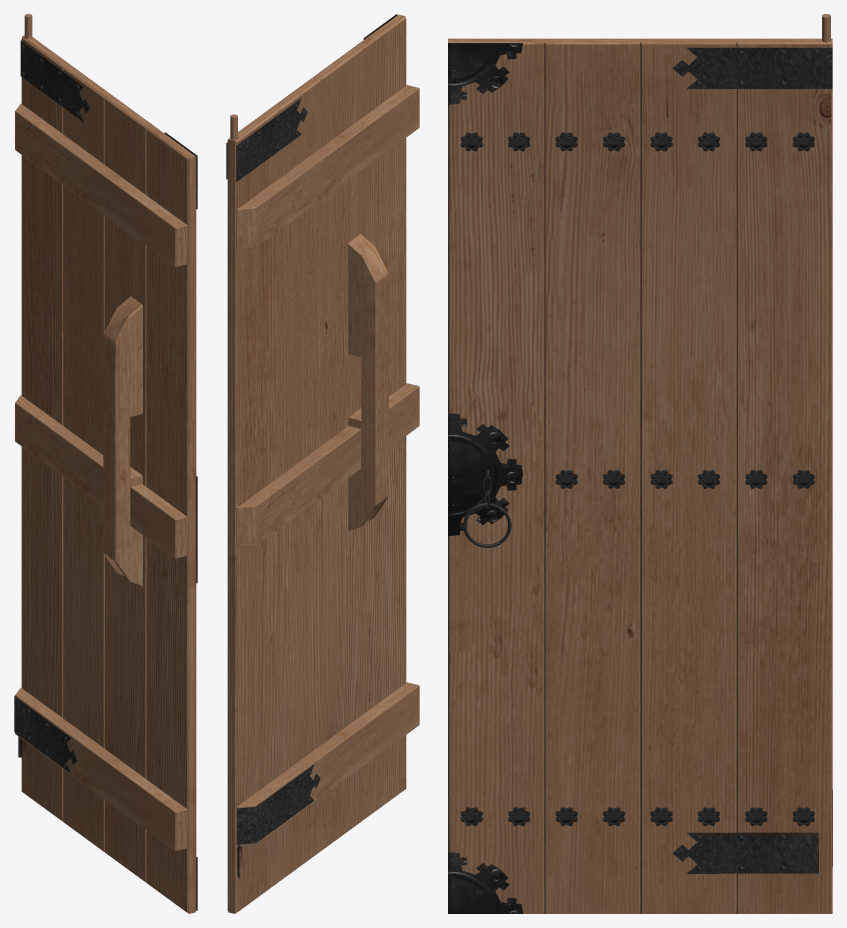
Rendered from SM_Gyedong_Door_07C.fbx.
3 views of the same model, side by side, from view 1: azimuth 30°, elevation 25°; view 2: azimuth 150°, elevation 25°; view 3: azimuth 270°, elevation 25° (orthographic). The views are drawn at different scales.
Parts seen in each view (by area): view 1: SM_Gyedong_Door_07C; view 2: SM_Gyedong_Door_07C; view 3: SM_Gyedong_Door_07C.
Part boxes in pixels (x1,y1,x2,y2): SM_Gyedong_Door_07C: (14, 14, 197, 913); SM_Gyedong_Door_07C: (226, 14, 419, 913); SM_Gyedong_Door_07C: (448, 14, 832, 913).
Size of the model in its own units: 14.2 by 230 by 89.49.
